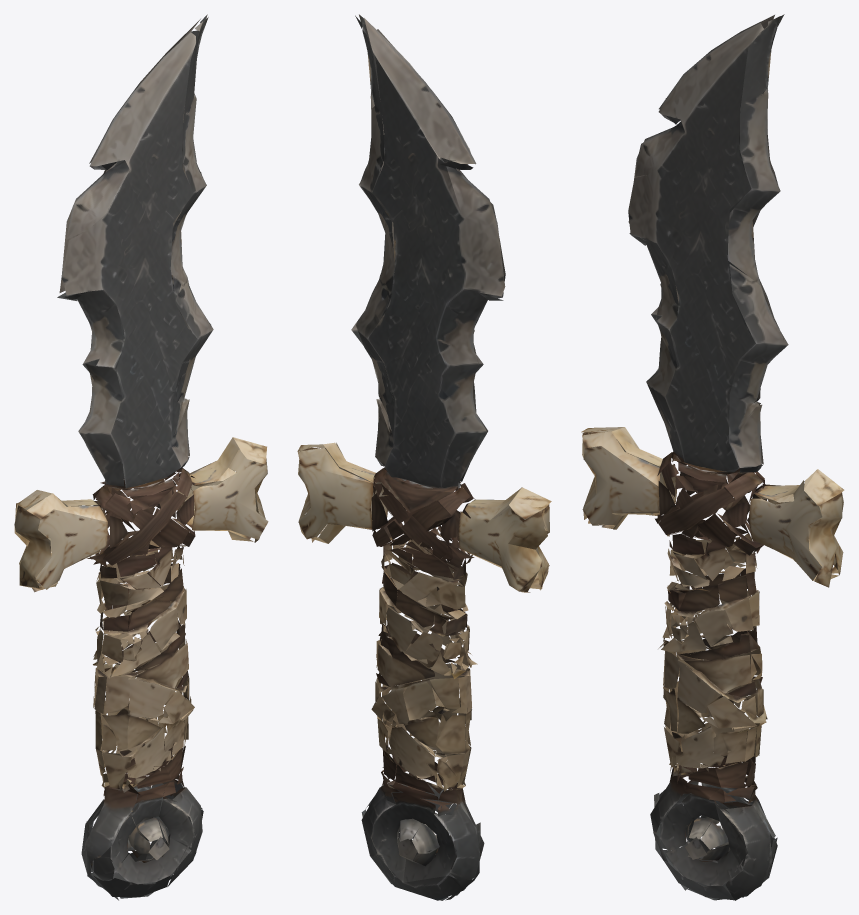
The model's file is w_dagger.glb.
3 renders of one model, left to right at view 1: azimuth 30°, elevation 25°; view 2: azimuth 150°, elevation 25°; view 3: azimuth 330°, elevation 25°, orthographic. The views are drawn at different scales.
Visible parts, largest first — view 1: Body; view 2: Body; view 3: Body.
Part boxes in pixels (<box>): Body: <box>14,14,268,900</box>; Body: <box>297,14,551,900</box>; Body: <box>581,14,844,900</box>.
Bounding box in the file's own units: 0.1755 × 0.5788 × 0.0415.
1 material, 1 textured.
